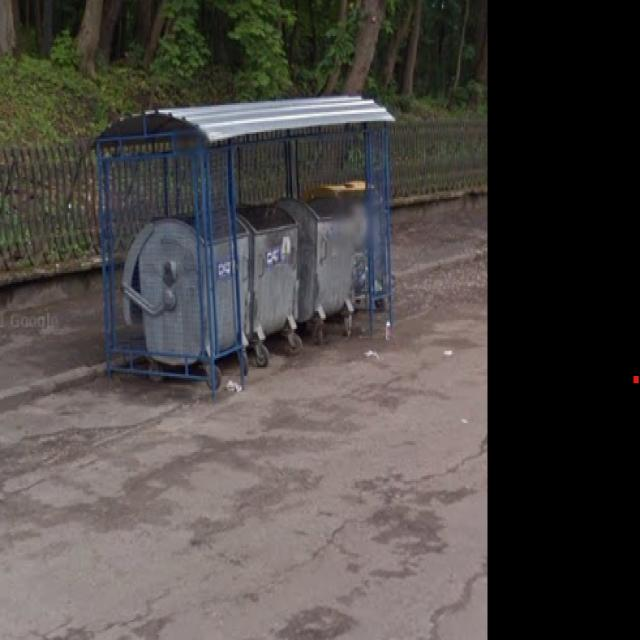general wastetrash bin: (118, 207, 250, 395), (251, 203, 303, 399), (304, 190, 358, 378)
